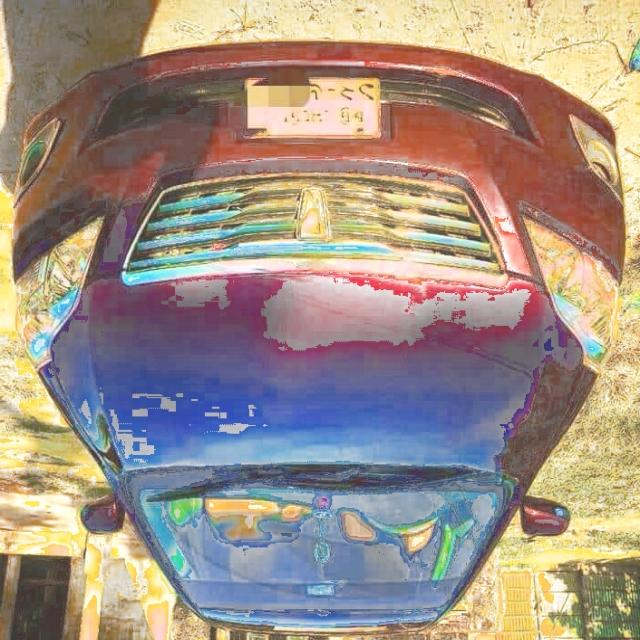maroon: (2, 50, 615, 625)
